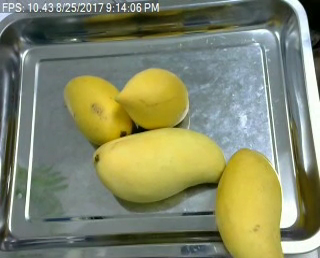Mango: (83, 124, 230, 206), (214, 147, 290, 257), (60, 73, 132, 143), (117, 65, 188, 129)
